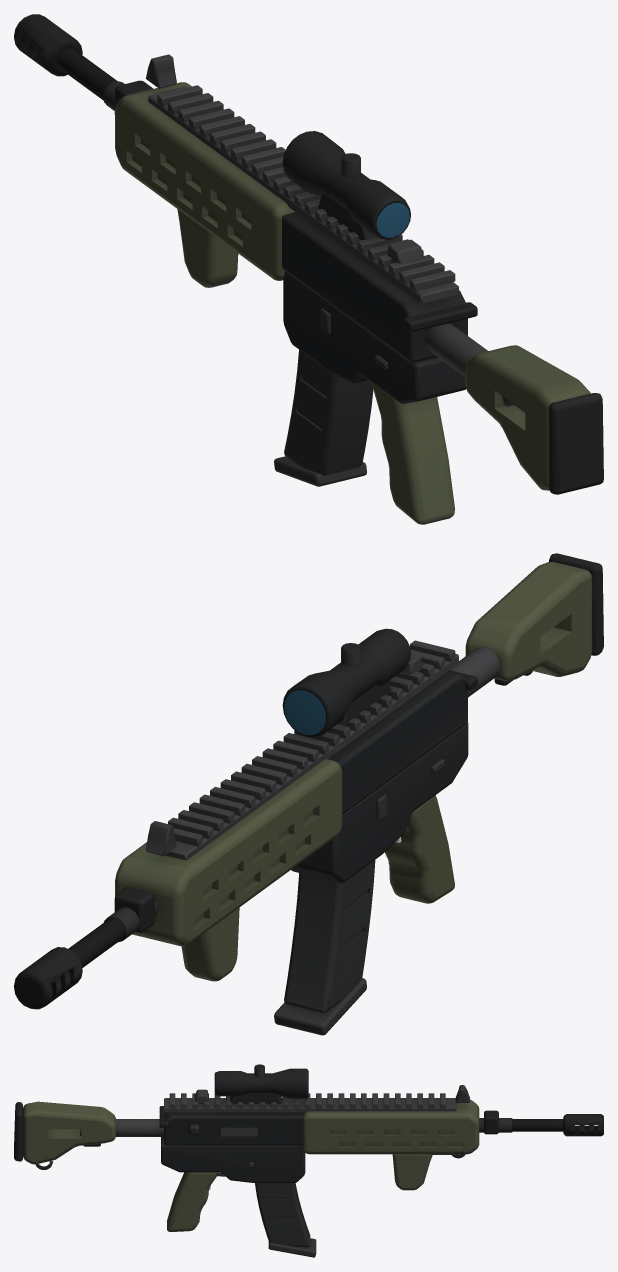
3 views of the same model, one above another, from view 1: azimuth 30°, elevation 25°; view 2: azimuth 150°, elevation 25°; view 3: azimuth 270°, elevation 25° (orthographic). The views are drawn at different scales.
Parts seen in each view (by area): view 1: AR_body, AR_mag, AR_optic; view 2: AR_body, AR_mag, AR_optic; view 3: AR_body, AR_mag, AR_optic.
Boxes of the visible parts, left/top/right/bottom form: AR_body: left=14, top=14, right=603, bottom=524; AR_mag: left=274, top=350, right=373, bottom=486; AR_optic: left=282, top=131, right=410, bottom=240; AR_body: left=14, top=553, right=603, bottom=1009; AR_mag: left=274, top=860, right=375, bottom=1035; AR_optic: left=282, top=628, right=410, bottom=737; AR_body: left=14, top=1085, right=603, bottom=1231; AR_mag: left=255, top=1183, right=316, bottom=1257; AR_optic: left=214, top=1064, right=308, bottom=1103.
Size of the model in its own units: 30.5 by 136 by 393.
Materials: 1 (1 with a texture image).
